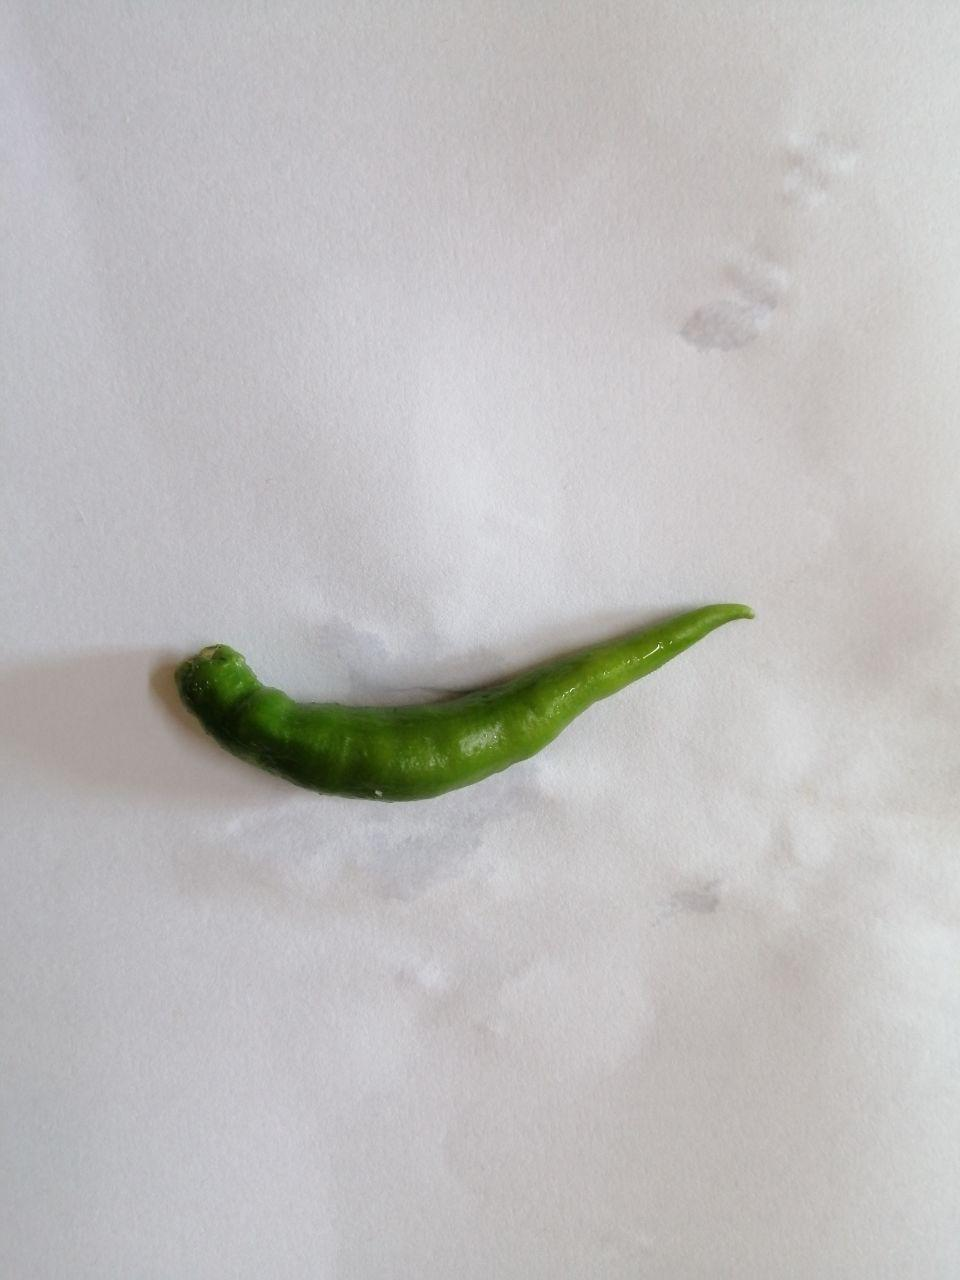lada hijau: (155, 541, 794, 823)
